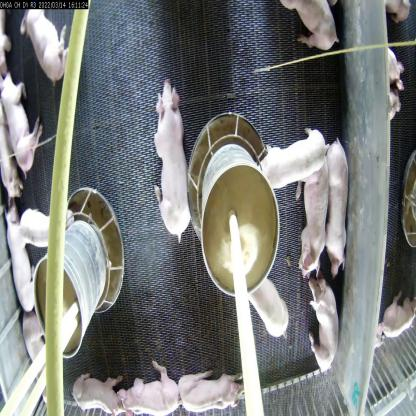Pig: (153, 83, 195, 245), (299, 137, 339, 284), (18, 8, 80, 99), (264, 116, 324, 188), (320, 136, 348, 284), (67, 352, 128, 415), (178, 359, 246, 415), (307, 272, 341, 383), (7, 210, 38, 324), (120, 358, 187, 410), (15, 197, 78, 252), (244, 280, 296, 342), (281, 0, 336, 57), (4, 73, 36, 170)
